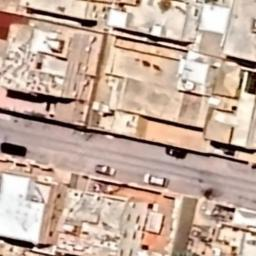pickup: (95, 165, 116, 176)
unknown: (2, 144, 28, 158), (165, 146, 188, 159)
van: (143, 173, 169, 188)
